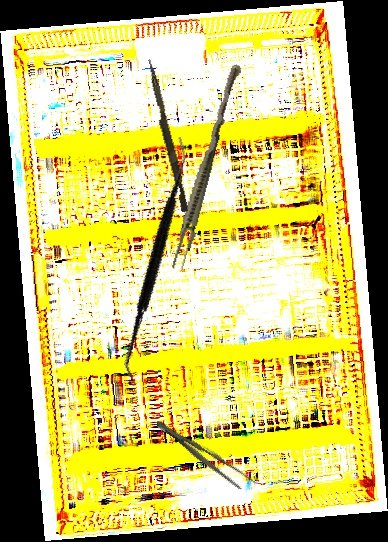Dressing Forceps: (151, 415, 258, 496)
Pusher: (141, 58, 193, 213)
Spatula Surgical: (62, 135, 252, 387)
Tissue Forceps: (169, 61, 243, 273)
